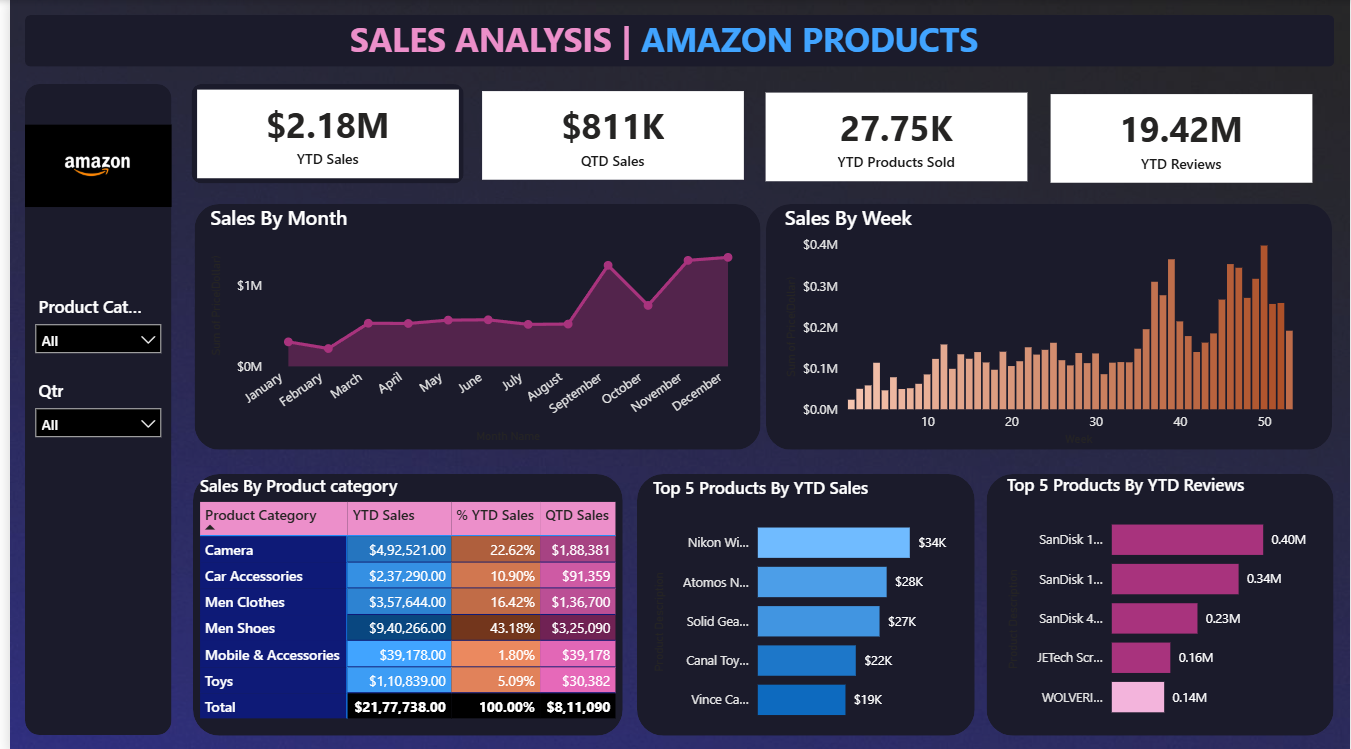

Layout of this report page (visuals, bound fields, positions):
{"tool":"powerbi","page":{"name":"Page 1","canvas":[1280,720],"ordinal":0},"visuals":[{"type":"shape","box":[14.3,14.3,1250.2,49.3],"z":0},{"type":"textbox","box":[320,10,640,56.7],"z":1000},{"type":"shape","box":[15,80,140,621.7],"z":2000},{"type":"shape","box":[173.3,80,260,95],"z":3000},{"type":"cardVisual","fields":{"Data":["Amazon_Data.YTD Sales"]},"box":[173.3,80,260,95],"z":4000},{"type":"cardVisual","fields":{"Data":["Amazon_Data.QTD Sales"]},"box":[445,81.7,260,95],"z":5000},{"type":"cardVisual","fields":{"Data":["Amazon_Data.YTD Products Sold"]},"box":[716.7,83.3,260,95],"z":6000},{"type":"cardVisual","fields":{"Data":["Amazon_Data.YTD Reviews"]},"box":[988.3,85,260,95],"z":7000},{"type":"shape","box":[175.6,195.3,540.6,234.7],"z":8000},{"type":"areaChart","title":"Sales By Month","fields":{"Category":["Date Table.Month Name"],"Y":["Sum(Amazon_Data.Price(Dollar))"]},"box":[186.2,195.3,519.4,231.7],"z":9000},{"type":"shape","box":[722.3,195.3,540.6,234.7],"z":10000},{"type":"columnChart","title":"Sales By Week","fields":{"Category":["Date Table.Week"],"Y":["Sum(Amazon_Data.Price(Dollar))"]},"box":[734.4,195.3,514.8,234.7],"z":11000},{"type":"shape","box":[174.1,452.7,410.3,249.8],"z":12000},{"type":"pivotTable","title":"Sales By Product category","fields":{"Rows":["Amazon_Data.Product Category"],"Values":["Amazon_Data.YTD Sales1","Amazon_Data.YTD Sales","Amazon_Data.QTD Sales"]},"box":[175.6,452.7,408.8,239.2],"z":13000},{"type":"shape","box":[598.1,452.7,322.5,249.8],"z":14000},{"type":"shape","box":[932.8,452.7,331.6,249.8],"z":15000},{"type":"clusteredBarChart","title":"Top 5 Products By YTD Sales","fields":{"Category":["Amazon_Data.Product Description"],"Y":["Amazon_Data.YTD Sales"]},"box":[608.5,453.5,300.5,249.5],"z":16000},{"type":"clusteredBarChart","title":"Top 5 Products By YTD Reviews","fields":{"Category":["Amazon_Data.Product Description"],"Y":["Amazon_Data.YTD Reviews"]},"box":[946.4,451.7,300.6,249.7],"z":16001},{"type":"slicer","fields":{"Values":["Amazon_Data.Product Category"]},"box":[14.3,276.8,140,71.6],"z":16002},{"type":"slicer","fields":{"Values":["Date Table.Qtr"]},"box":[14.3,356.3,140,71.6],"z":16003},{"type":"image","box":[14.3,101.8,140,112.9],"z":16004}]}

Visuals, with their boxes in screenshot pixels (x1, y1, x2, y2), scaled from the page's 1280x720 canvas onto the 1351x749 screenshot:
shape: pyautogui.locateOnScreen(15, 15, 1335, 66)
textbox: pyautogui.locateOnScreen(338, 10, 1013, 69)
shape: pyautogui.locateOnScreen(16, 83, 164, 730)
shape: pyautogui.locateOnScreen(183, 83, 457, 182)
cardVisual - Amazon_Data.YTD Sales: pyautogui.locateOnScreen(183, 83, 457, 182)
cardVisual - Amazon_Data.QTD Sales: pyautogui.locateOnScreen(470, 85, 744, 184)
cardVisual - Amazon_Data.YTD Products Sold: pyautogui.locateOnScreen(756, 87, 1031, 185)
cardVisual - Amazon_Data.YTD Reviews: pyautogui.locateOnScreen(1043, 88, 1318, 187)
shape: pyautogui.locateOnScreen(185, 203, 756, 447)
"Sales By Month" areaChart: pyautogui.locateOnScreen(197, 203, 745, 444)
shape: pyautogui.locateOnScreen(762, 203, 1333, 447)
"Sales By Week" columnChart: pyautogui.locateOnScreen(775, 203, 1318, 447)
shape: pyautogui.locateOnScreen(184, 471, 617, 731)
"Sales By Product category" pivotTable: pyautogui.locateOnScreen(185, 471, 617, 720)
shape: pyautogui.locateOnScreen(631, 471, 972, 731)
shape: pyautogui.locateOnScreen(985, 471, 1335, 731)
"Top 5 Products By YTD Sales" clusteredBarChart: pyautogui.locateOnScreen(642, 472, 959, 731)
"Top 5 Products By YTD Reviews" clusteredBarChart: pyautogui.locateOnScreen(999, 470, 1316, 730)
slicer - Amazon_Data.Product Category: pyautogui.locateOnScreen(15, 288, 163, 362)
slicer - Date Table.Qtr: pyautogui.locateOnScreen(15, 371, 163, 445)
image: pyautogui.locateOnScreen(15, 106, 163, 223)
